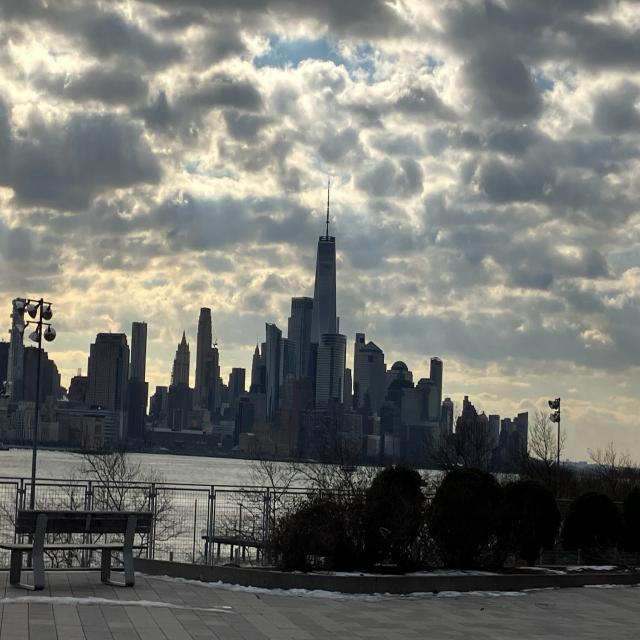WTC: (311, 179, 338, 334)
